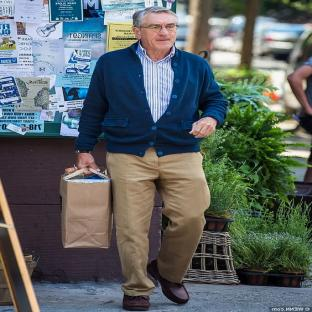Human: (75, 7, 228, 310)
